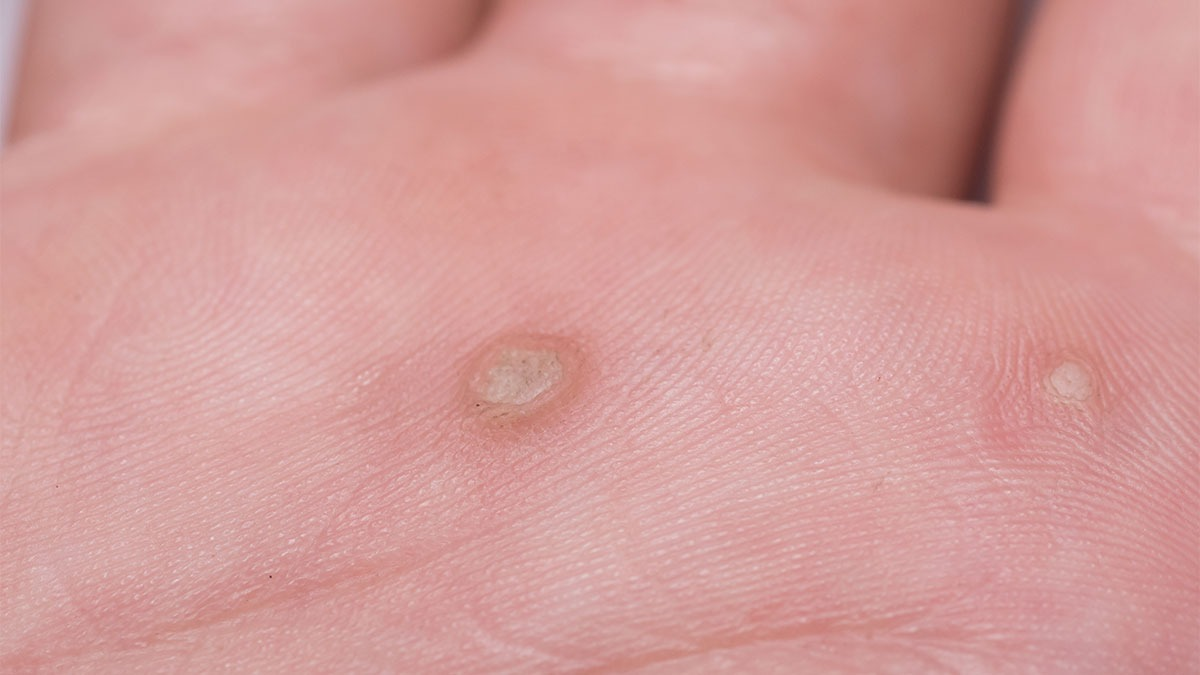Warts: (460, 332, 596, 432), (1036, 336, 1118, 430)
